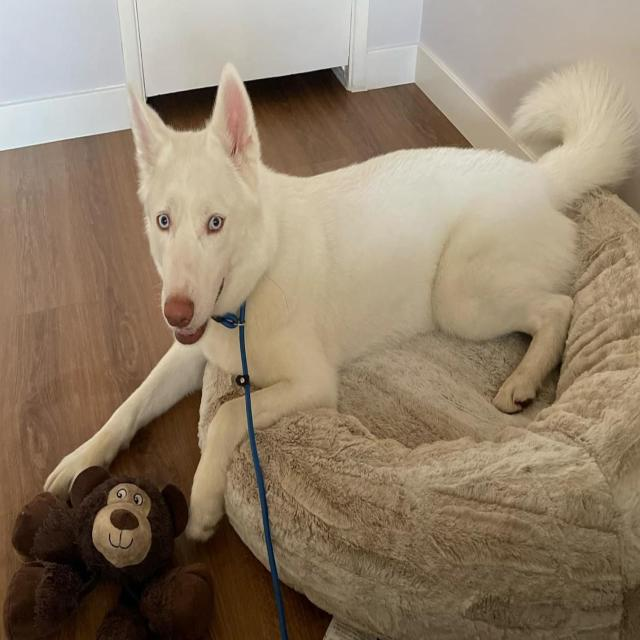siberian_husky_dog: (119, 64, 288, 362)
